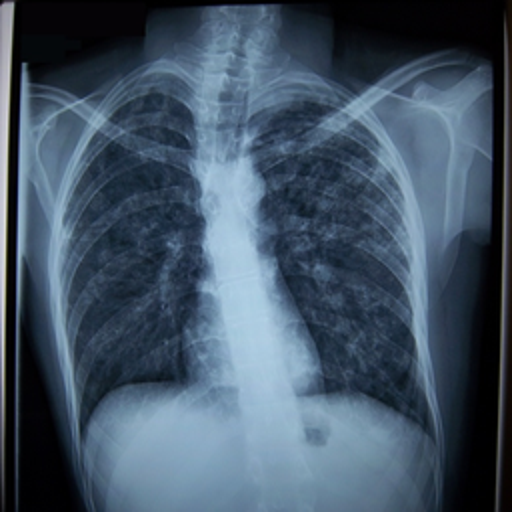TB: (269, 103, 400, 286), (65, 115, 176, 292)
